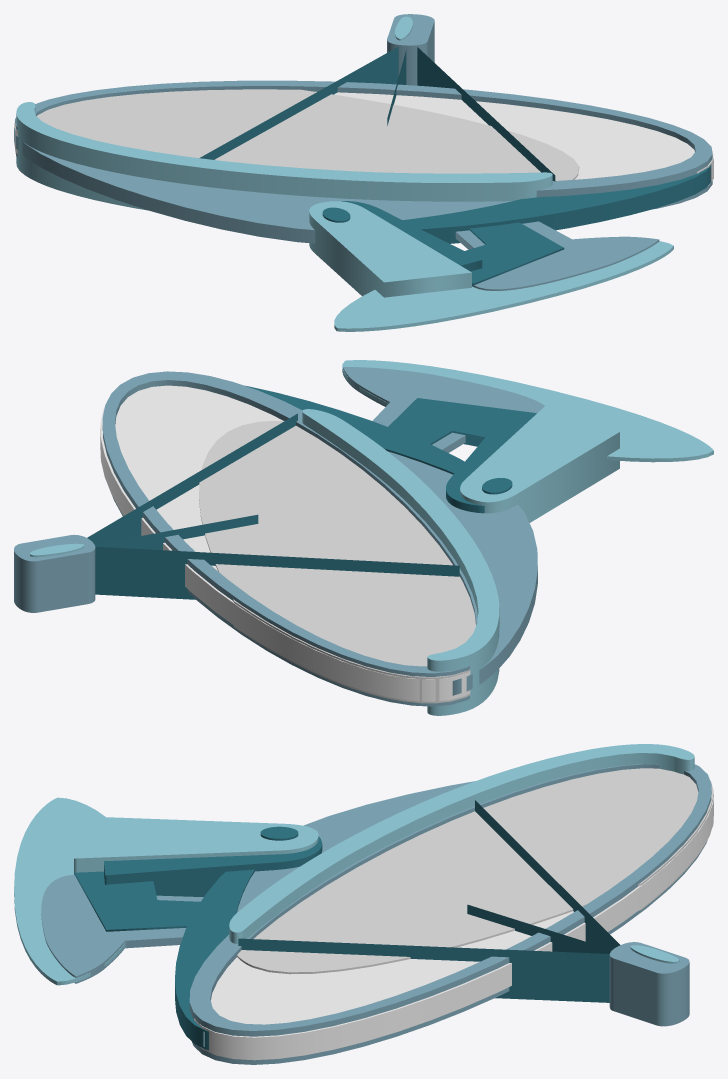
File: emoji_u1f4e1.glb
3 views of the same model, one above another, from view 1: azimuth 30°, elevation 25°; view 2: azimuth 150°, elevation 25°; view 3: azimuth 270°, elevation 25° (orthographic). The views are drawn at different scales.
Visible parts, largest first — view 1: emoji_u1f4e1; view 2: emoji_u1f4e1; view 3: emoji_u1f4e1.
Part boxes in pixels (left/top/right/bottom): emoji_u1f4e1: left=14, top=14, right=713, bottom=331; emoji_u1f4e1: left=14, top=360, right=713, bottom=715; emoji_u1f4e1: left=14, top=744, right=713, bottom=1064.
Bounding box in the file's own units: 0.0315 × 0.003 × 0.0337.
